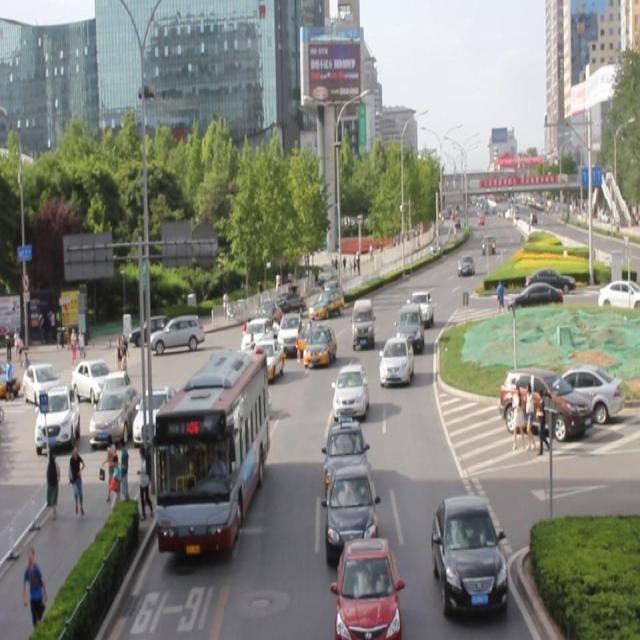car: (432, 492, 502, 616), (335, 537, 397, 640), (325, 463, 378, 557), (324, 418, 366, 496), (332, 362, 367, 418), (378, 334, 412, 387), (211, 345, 245, 395), (248, 334, 288, 376), (304, 316, 338, 362), (274, 306, 305, 354), (394, 302, 424, 351), (240, 315, 272, 359), (311, 279, 348, 315), (404, 288, 432, 327)
truck: (350, 294, 375, 348)
van: (154, 352, 265, 546)
